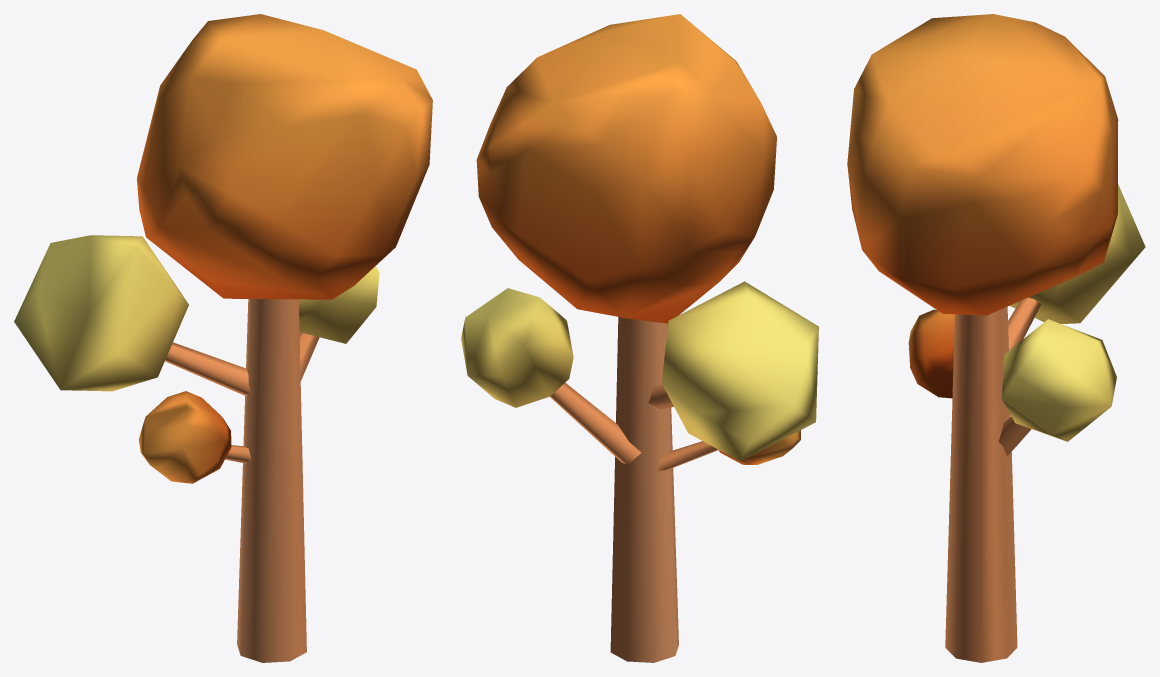
Rendered from tree.fbx.
3 renders of one model, left to right at view 1: azimuth 30°, elevation 25°; view 2: azimuth 150°, elevation 25°; view 3: azimuth 270°, elevation 25°, orthographic. The views are drawn at different scales.
Parts seen in each view (by area): view 1: tree; view 2: tree; view 3: tree.
Part boxes in pixels (x1,y1,x2,y2): tree: (14,14,432,662); tree: (461,14,818,662); tree: (847,14,1145,662).
Size of the model in its own units: 452 by 759 by 335.
